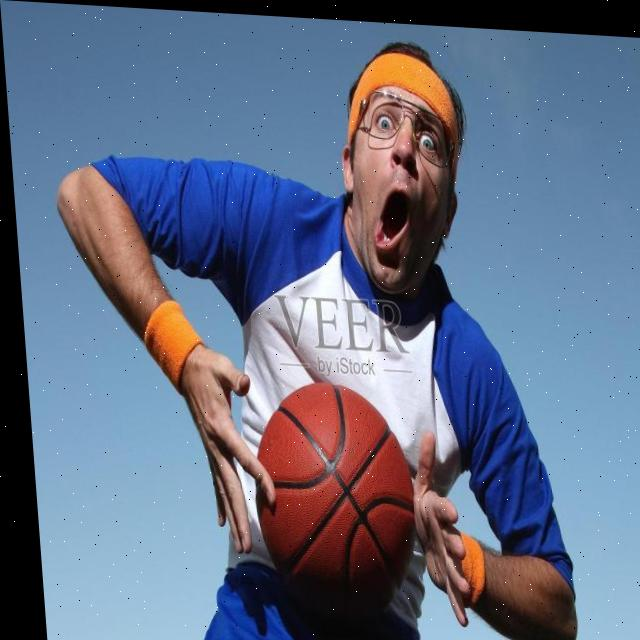Basketball: (245, 376, 423, 620)
